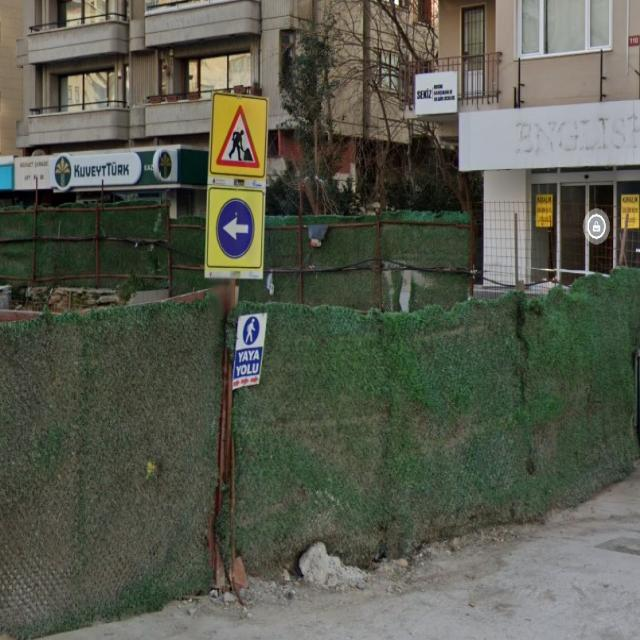Turn Left: (214, 203, 258, 266)
